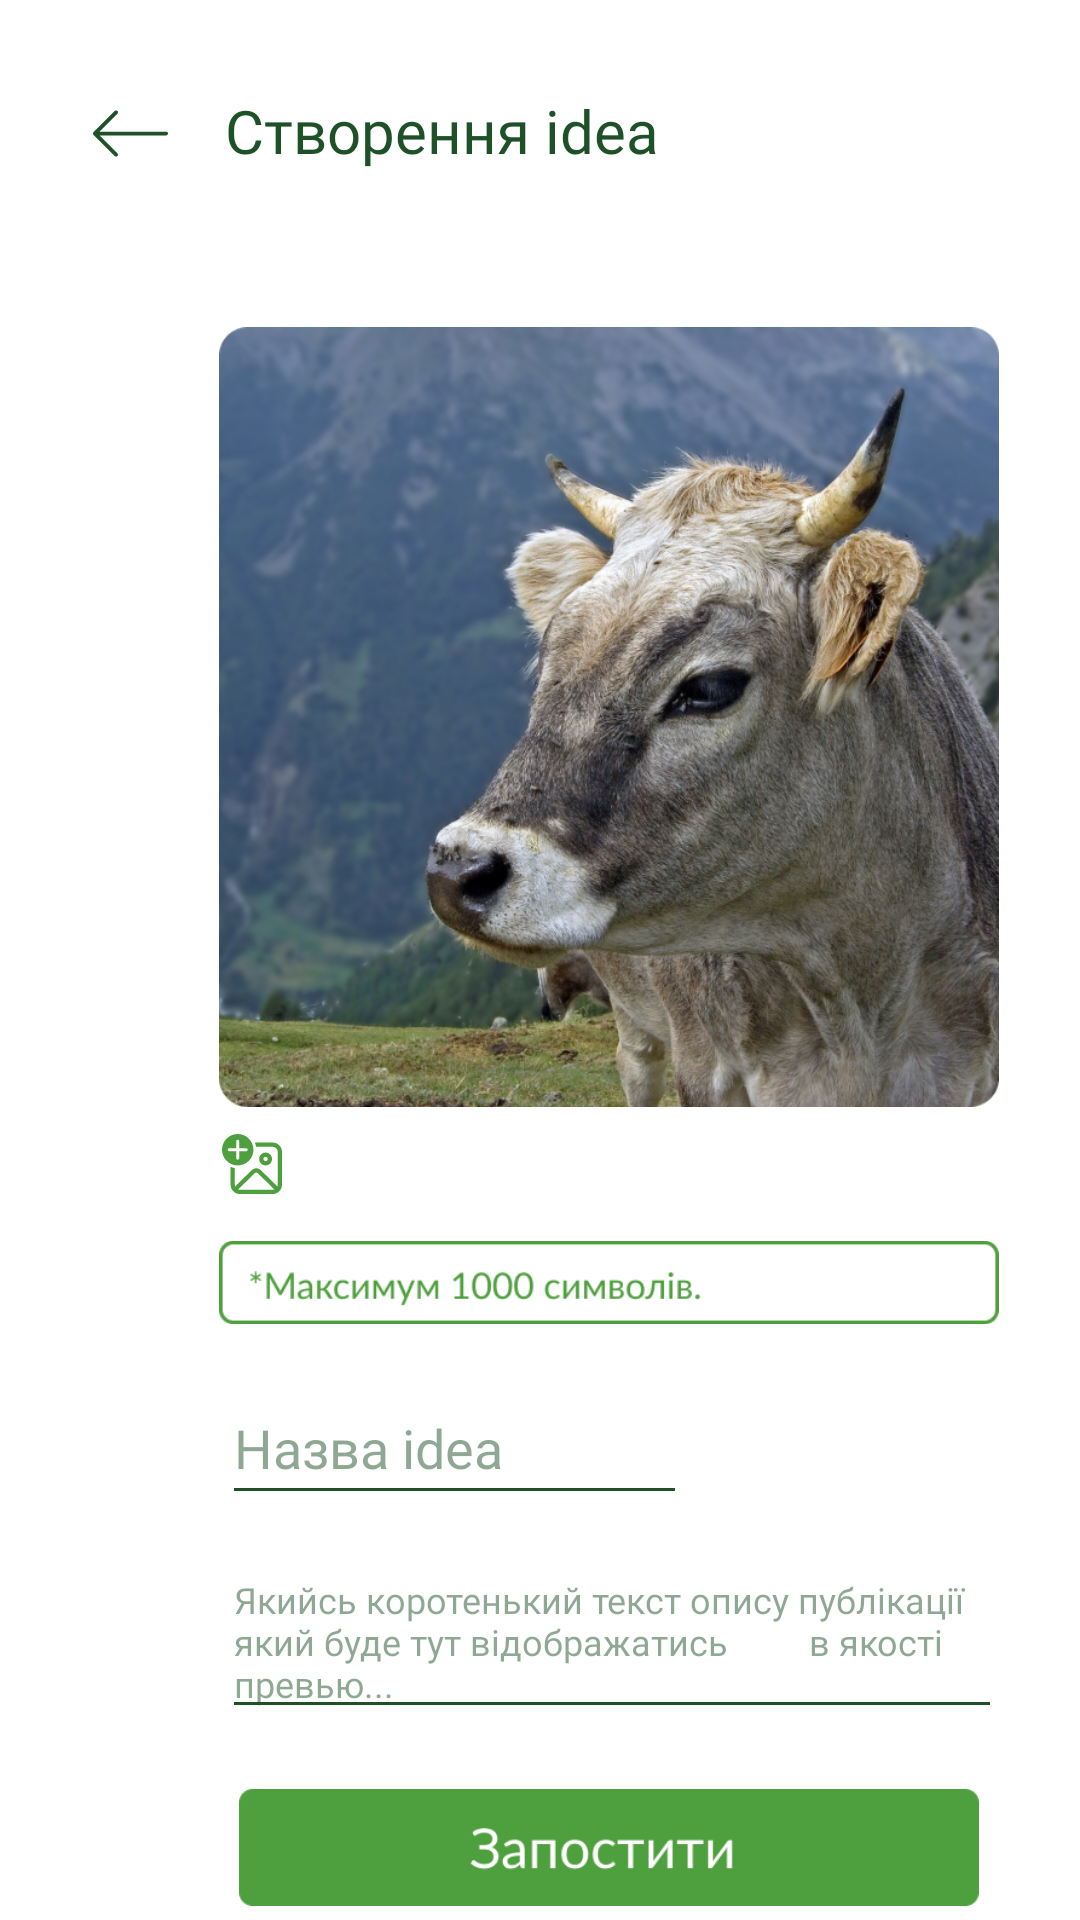

Named icons in this screenshot (1080 x 1920) and their bounding boxes, (x1, y1, x2, y2):
add photo: (222, 1134, 282, 1194)
back arrow: (93, 110, 168, 157)
